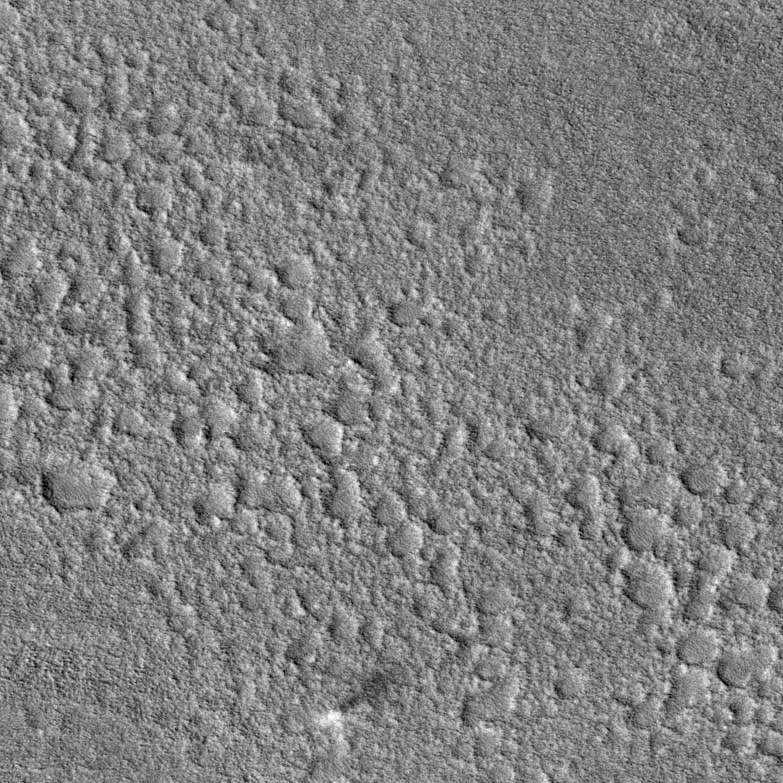dust_devil: (315, 666, 397, 751)
